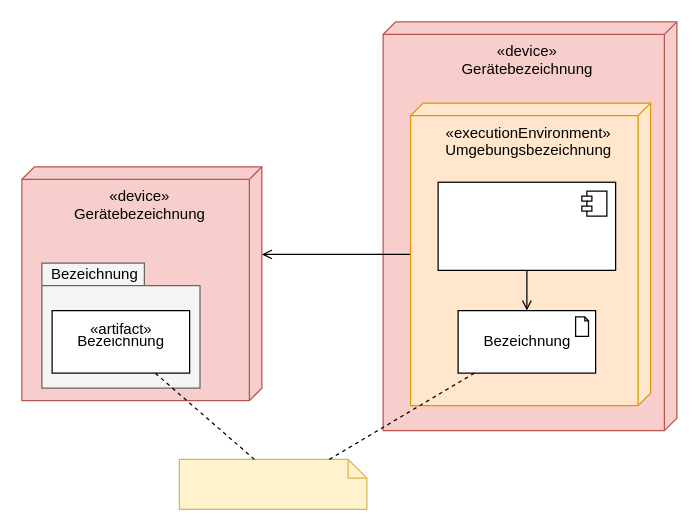
Some shapes in this 699 by 531 pixel diagram are drawn without their labels. The shapes that lost their labels are listed below. From the top down, each one's centre as x and y in pixels, then its label:
At [526,225]: "«service» Bezeichnung".
At [272,483]: "Beides sind Artefakte!".
